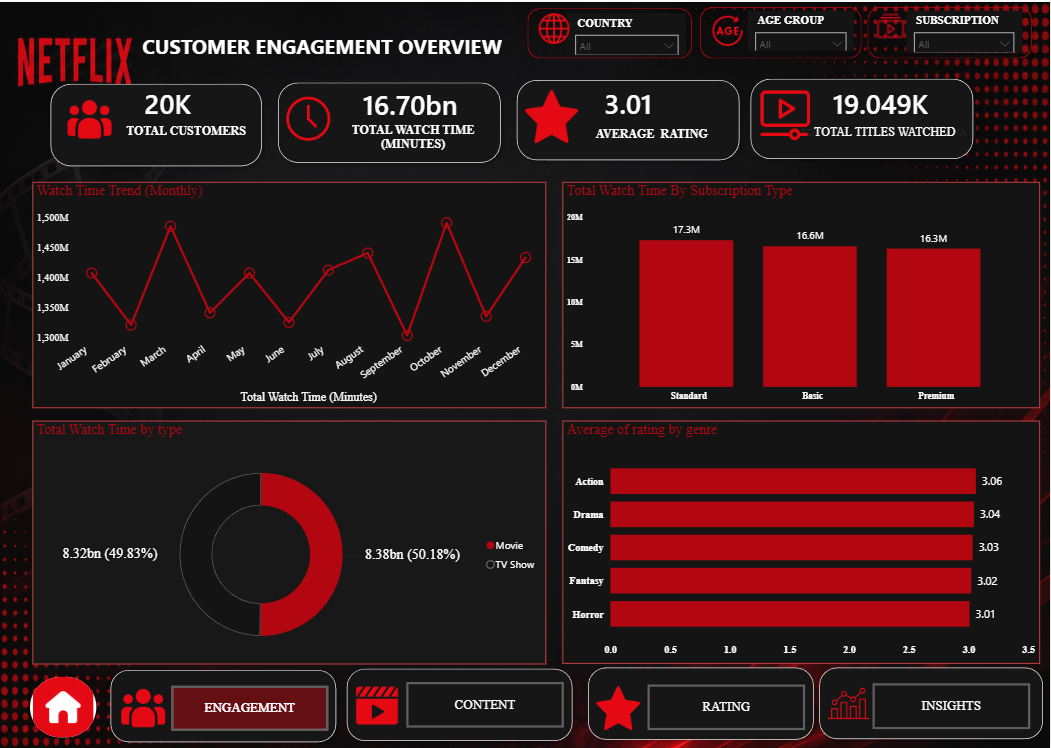

The page's visual inventory and layout, read from the dashboard file:
{"tool":"powerbi","page":{"name":"Page 1","canvas":[1393,990],"ordinal":1},"visuals":[{"type":"shape","box":[451.4,875.3,317.5,113.8],"z":0},{"type":"shape","box":[137.6,877.2,317.5,113.8],"z":1000},{"type":"textbox","box":[64.1,18.8,725.5,67.8],"z":2000},{"type":"shape","box":[58.5,99,298.5,127.5],"z":3000},{"type":"textbox","box":[148.3,157.3,198.6,37.8],"z":4000},{"type":"image","box":[90,116.3,58.3,78.8],"z":5000},{"type":"cardVisual","fields":{"Data":["CountNonNull(netflix_customer_ratings_20000.customer_id)"]},"box":[162.3,100,169.8,67.9],"z":6000},{"type":"shape","box":[360,97.5,313.5,124.5],"z":7000},{"type":"textbox","box":[438,156,220.5,66],"z":8000},{"type":"image","box":[379.5,115.5,58.5,78],"z":9000},{"type":"cardVisual","fields":{"Data":["Formulas.Total Watch Time"]},"box":[452.8,100,192,69],"z":10000},{"type":"shape","box":[676,94.3,313.5,124.5],"z":11000},{"type":"textbox","box":[754.5,160.5,220.5,66],"z":12000},{"type":"image","box":[696,112.5,70.5,78],"z":13000},{"type":"cardVisual","fields":{"Data":["Avg(netflix_customer_ratings_20000.rating)"]},"box":[773.6,98.1,192,69],"z":14000},{"type":"shape","box":[987.2,92.3,313.5,124.5],"z":15000},{"type":"textbox","box":[1051.5,159,243,48],"z":16000},{"type":"image","box":[1007.2,110.5,70.5,78],"z":17000},{"type":"cardVisual","fields":{"Data":["Count(netflix_dataset_20000.title)"]},"box":[1077.4,98.1,192,69],"z":18000},{"type":"lineChart","title":"Watch Time Trend (Monthly)","fields":{"Y":["Formulas.Total Watch Time"],"Category":["netflix_dataset_20000.Month Name"]},"box":[43.3,238.3,681.7,300],"z":19000},{"type":"clusteredColumnChart","title":"Total Watch Time By Subscription Type","fields":{"Category":["netflix_customer_ratings_20000.subscription_type"],"Y":["Sum(netflix_customer_ratings_20000.watch_time_minutes)"]},"box":[746.5,239,633.5,300.1],"z":20000},{"type":"donutChart","fields":{"Category":["netflix_dataset_20000.type"],"Y":["Formulas.Total Watch Time"]},"box":[43.3,555,681.7,323.3],"z":21000},{"type":"barChart","fields":{"Category":["netflix_dataset_20000.genre"],"Y":["Avg(netflix_customer_ratings_20000.rating)"]},"box":[746.5,555.7,633.5,322.3],"z":22000},{"type":"image","box":[39.8,895.8,87.9,79.6],"z":23000},{"type":"actionButton","title":"ENgagement off","box":[226.9,907,209,59.7],"z":24000},{"type":"actionButton","title":"ENGAGEMENT ON","box":[226.7,906.7,208.3,60],"z":25000},{"type":"actionButton","title":"content off","box":[539.9,903.2,209.2,60.6],"z":27000},{"type":"image","box":[161.5,897.4,58.7,78.9],"z":28000},{"type":"image","box":[471.6,893.7,58.7,78.9],"z":29000},{"type":"shape","box":[771.2,874.8,317.5,113.8],"z":30000},{"type":"actionButton","title":"Rating off","box":[858.8,906.5,209.2,60.6],"z":32000},{"type":"image","box":[790.9,897.4,58.7,78.9],"z":33000},{"type":"shape","box":[1078.1,874.3,314.9,113],"z":34000},{"type":"actionButton","title":"INSIGHTS off","box":[1157.7,904,209.3,61.1],"z":36000},{"type":"image","box":[1096.6,891,59.3,79.7],"z":37000},{"type":"shape","box":[700,7.5,218.1,66.5],"z":38000},{"type":"slicer","fields":{"Values":["netflix_customer_ratings_20000.country"]},"box":[753.6,14.9,157.1,55.5],"z":39000},{"type":"image","box":[712.9,14.9,44.4,40.7],"z":40000},{"type":"shape","box":[929.1,6.2,214.4,68.4],"z":41000},{"type":"slicer","fields":{"Values":["netflix_customer_ratings_20000.Age Group"]},"box":[992.5,11.3,141.5,52.8],"z":42000},{"type":"shape","box":[1151.3,6.3,218.1,68.4],"z":43000},{"type":"image","box":[943.4,18.9,43.4,39.6],"z":44000},{"type":"slicer","fields":{"Values":["netflix_customer_ratings_20000.subscription_type"]},"box":[1202.6,11.7,153.4,55.5],"z":45000},{"type":"image","box":[1160.1,12,44.5,40.3],"z":46000}]}

Visuals, with their boxes in screenshot pixels (x1, y1, x2, y2), scaled from the page's 1393x990 canvas onto the 1051x748 screenshot:
shape: <box>341,661,580,747</box>
shape: <box>104,663,343,747</box>
textbox: <box>48,14,596,65</box>
shape: <box>44,75,269,171</box>
textbox: <box>112,119,262,147</box>
image: <box>68,88,112,147</box>
cardVisual - CountNonNull(netflix_customer_ratings_20000.customer_id): <box>122,76,251,127</box>
shape: <box>272,74,508,168</box>
textbox: <box>330,118,497,168</box>
image: <box>286,87,330,146</box>
cardVisual - Formulas.Total Watch Time: <box>342,76,486,128</box>
shape: <box>510,71,747,165</box>
textbox: <box>569,121,736,171</box>
image: <box>525,85,578,144</box>
cardVisual - Avg(netflix_customer_ratings_20000.rating): <box>584,74,729,126</box>
shape: <box>745,70,981,164</box>
textbox: <box>793,120,977,156</box>
image: <box>760,83,813,142</box>
cardVisual - Count(netflix_dataset_20000.title): <box>813,74,958,126</box>
"Watch Time Trend (Monthly)" lineChart: <box>33,180,547,407</box>
"Total Watch Time By Subscription Type" clusteredColumnChart: <box>563,181,1041,407</box>
donutChart - netflix_dataset_20000.type x Formulas.Total Watch Time: <box>33,419,547,664</box>
barChart - netflix_dataset_20000.genre x Avg(netflix_customer_ratings_20000.rating): <box>563,420,1041,663</box>
image: <box>30,677,96,737</box>
"ENgagement off" actionButton: <box>171,685,329,730</box>
"ENGAGEMENT ON" actionButton: <box>171,685,328,730</box>
"content off" actionButton: <box>407,682,565,728</box>
image: <box>122,678,166,738</box>
image: <box>356,675,400,735</box>
shape: <box>582,661,821,747</box>
"Rating off" actionButton: <box>648,685,806,731</box>
image: <box>597,678,641,738</box>
shape: <box>813,661,1050,746</box>
"INSIGHTS off" actionButton: <box>873,683,1031,729</box>
image: <box>827,673,872,733</box>
shape: <box>528,6,693,56</box>
slicer - netflix_customer_ratings_20000.country: <box>569,11,687,53</box>
image: <box>538,11,571,42</box>
shape: <box>701,5,863,56</box>
slicer - netflix_customer_ratings_20000.Age Group: <box>749,9,856,48</box>
shape: <box>869,5,1033,56</box>
image: <box>712,14,745,44</box>
slicer - netflix_customer_ratings_20000.subscription_type: <box>907,9,1023,51</box>
image: <box>875,9,909,40</box>
